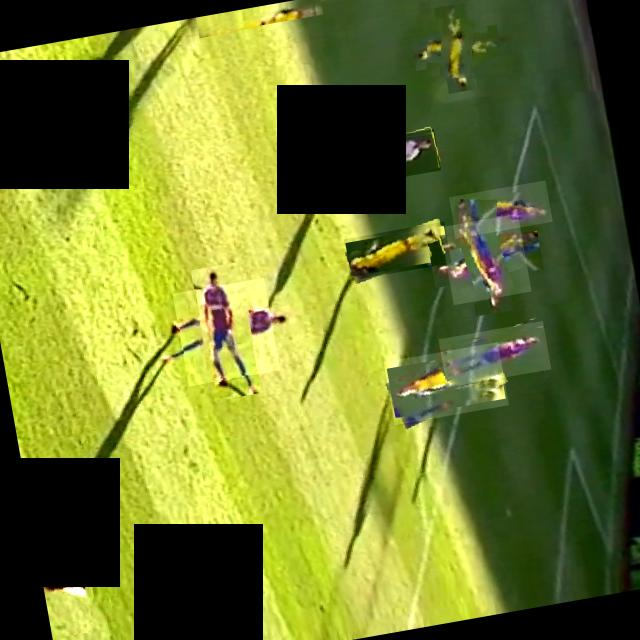ball: (0, 127, 15, 173)
referee: (314, 128, 440, 190)
soccer-player: (171, 277, 279, 386), (382, 342, 508, 425), (438, 213, 530, 305), (437, 320, 550, 388), (342, 221, 450, 280), (447, 180, 551, 238), (418, 10, 493, 86), (194, 0, 322, 37), (40, 566, 94, 638)
